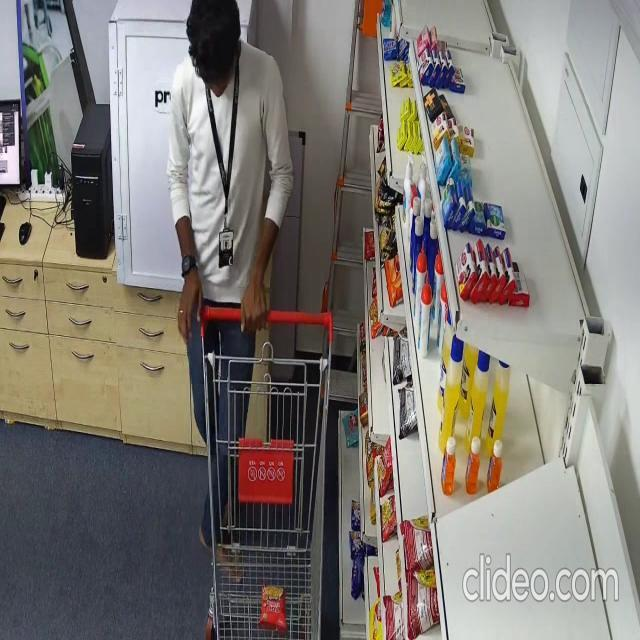normal: (172, 0, 290, 574)
